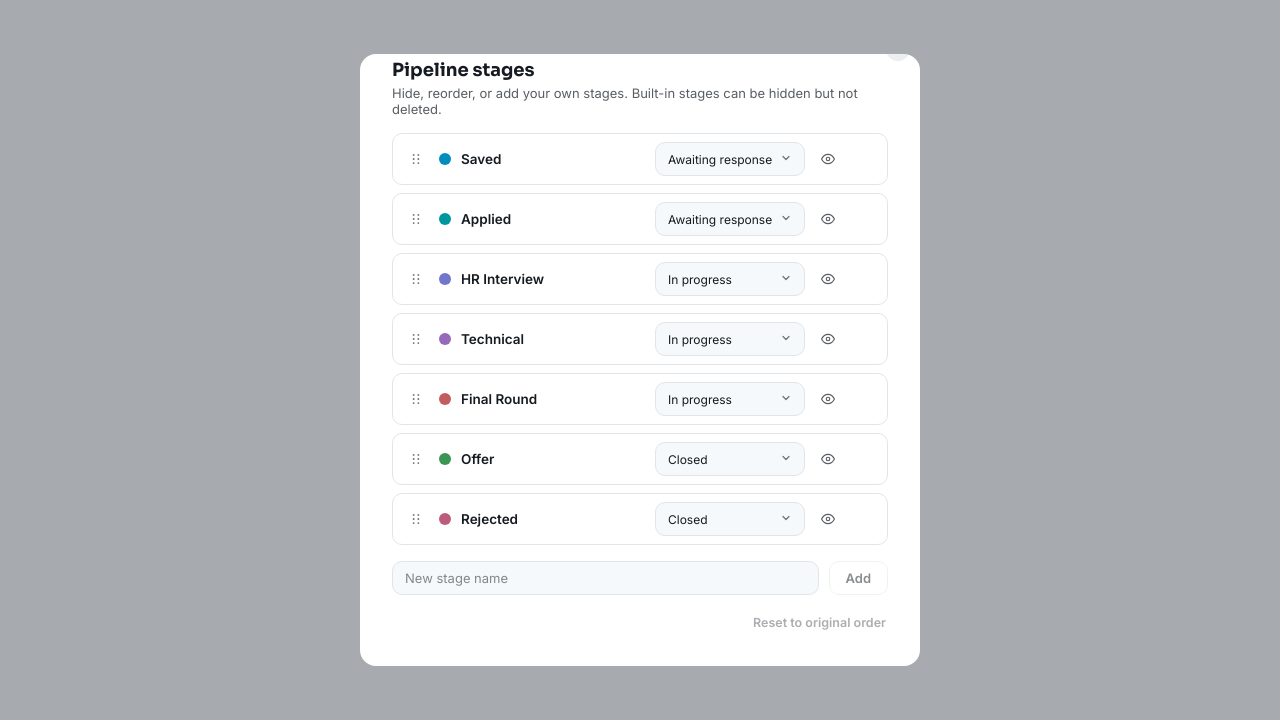
it: PipelineStagesModal › opens the reassign dialog instead of hiding when the stage has applications
(page scrolled)
Check: the text "Saved" is shown, box [461, 151, 501, 167]
Click the button named "Hide" in the row of "Saved" at (828, 159), box [815, 146, 841, 172]
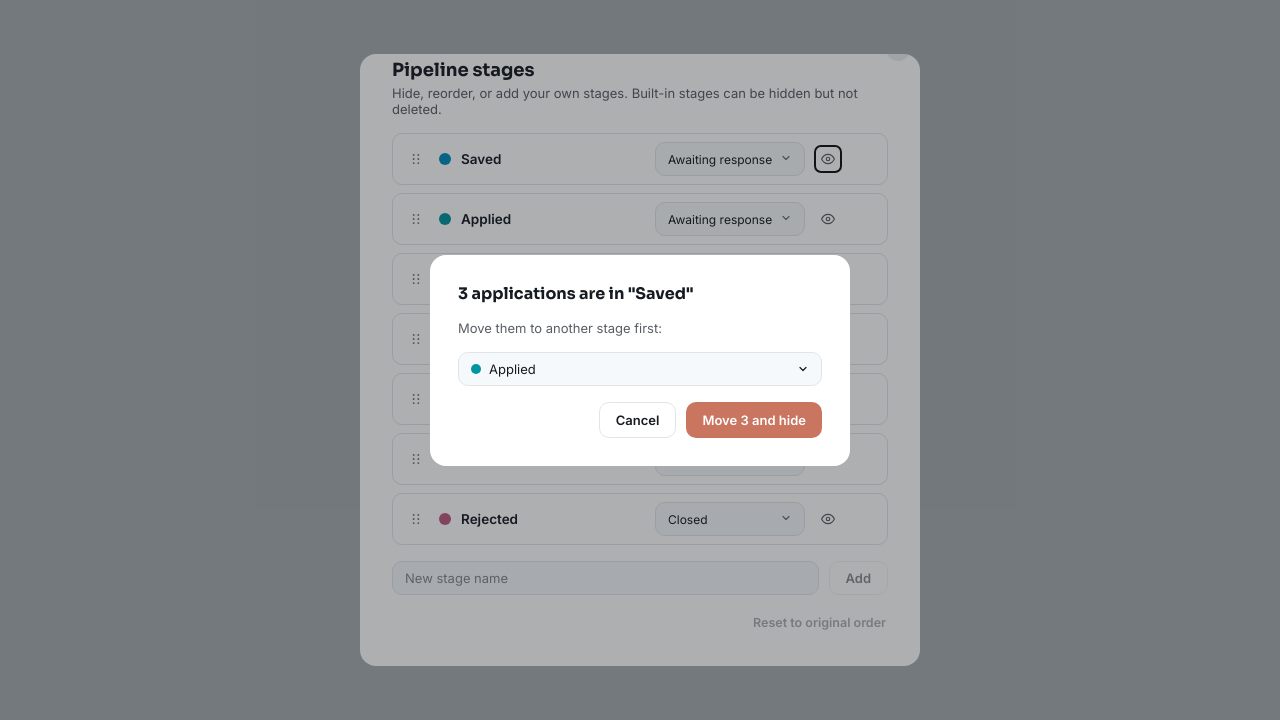
Check: the heading "3 applications are in \"Saved\"" is shown, box [458, 282, 694, 304]
